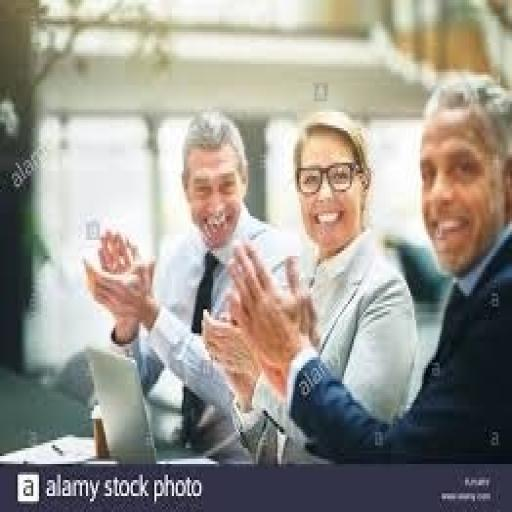clapping: (211, 72, 510, 464), (82, 107, 301, 464)
